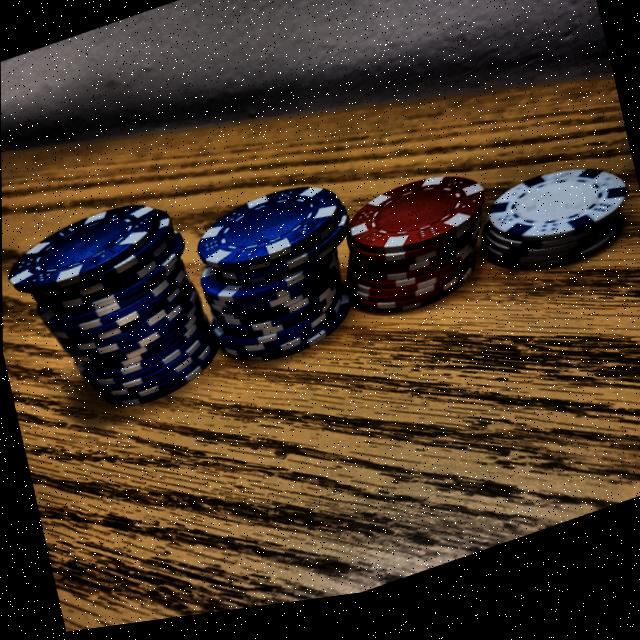Chip: (1, 159, 245, 468), (171, 160, 381, 405), (324, 146, 521, 355), (453, 138, 640, 322)
